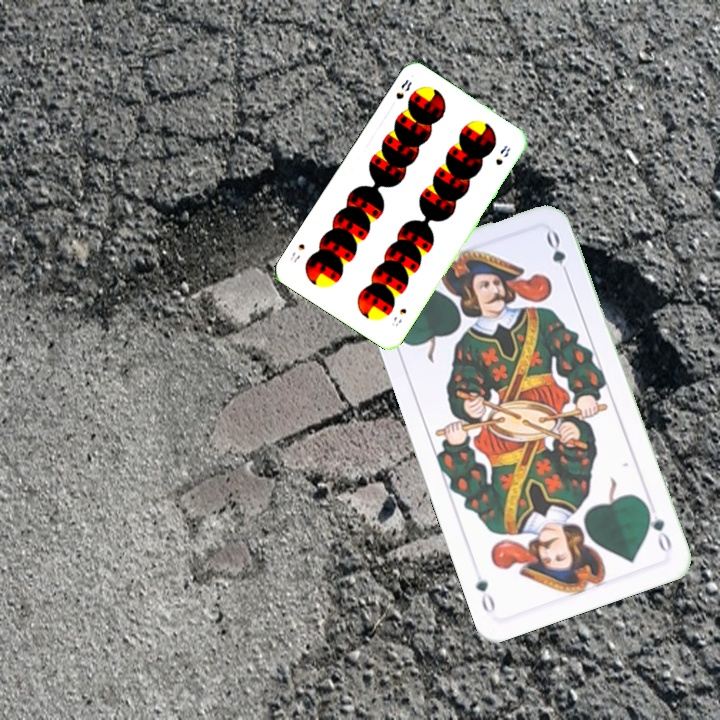GO: (641, 500, 675, 556)
S8: (392, 75, 415, 102), (387, 304, 409, 329)
